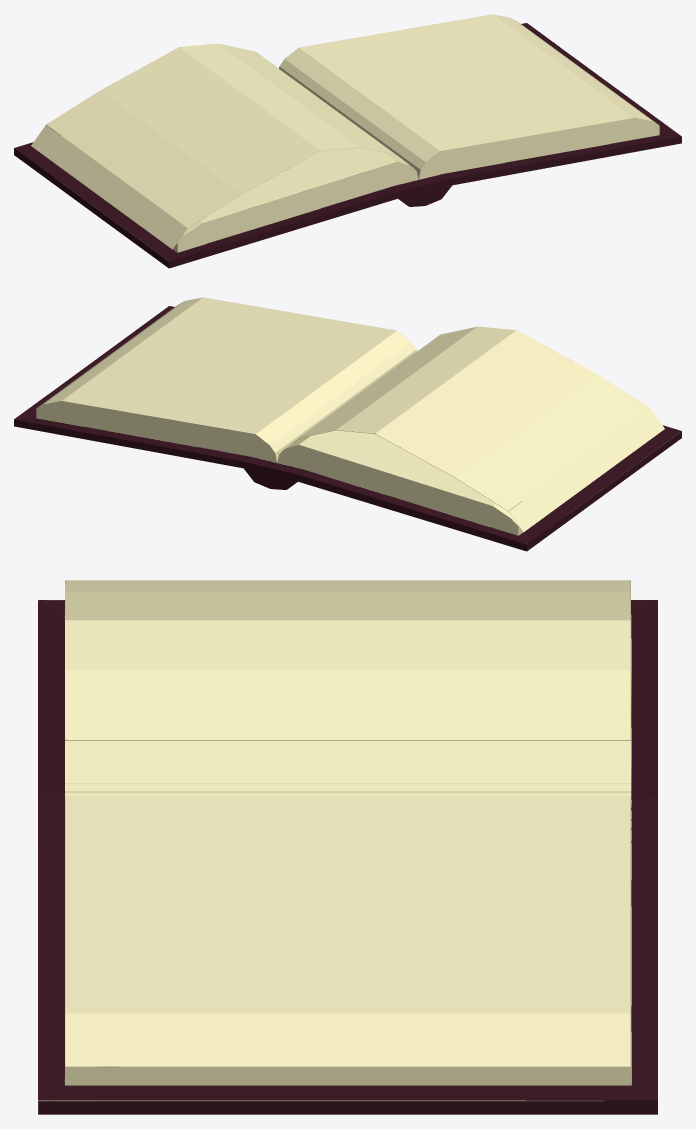
Rendered from OpenBook 3.fbx.
3 views of the same model, one above another, from view 1: azimuth 30°, elevation 25°; view 2: azimuth 150°, elevation 25°; view 3: azimuth 270°, elevation 25° (orthographic). The views are drawn at different scales.
Visible parts, largest first — view 1: Book.003; view 2: Book.003; view 3: Book.003.
Boxes of the visible parts, x1,y1,x2,y2 form: Book.003: (14,14,681,268); Book.003: (14,297,681,551); Book.003: (38,580,657,1114).
Bounding box in the file's own units: 38.19 × 5.28 × 20.
